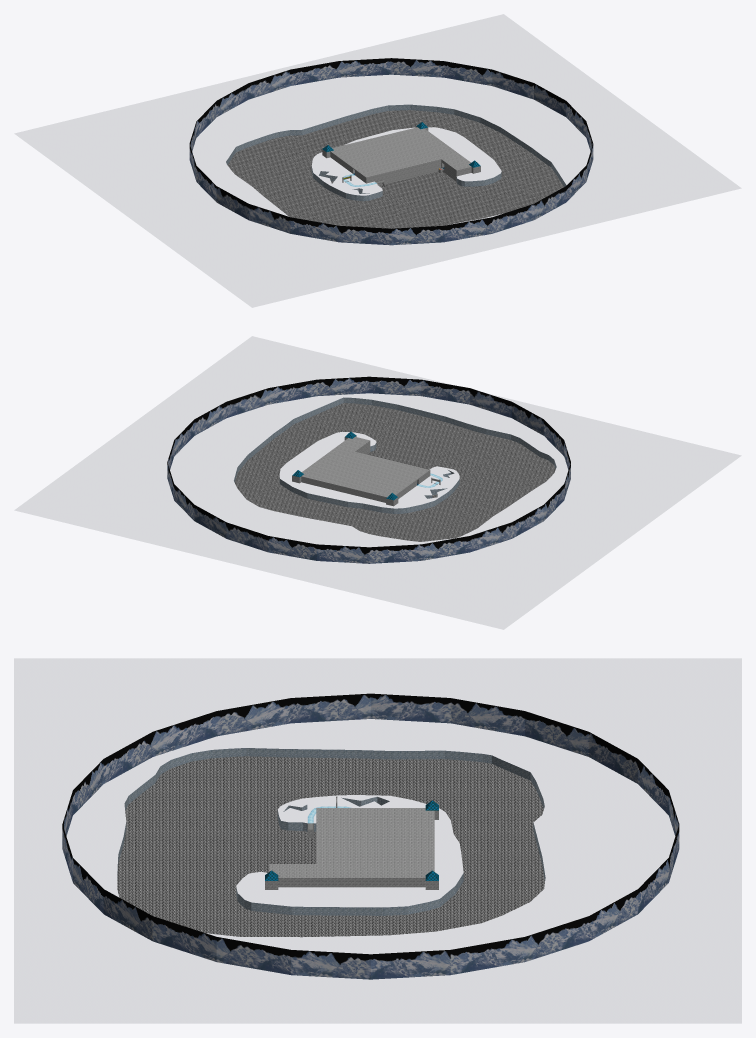
The picture shows the model from 3 angles, top to bottom: view 1: azimuth 30°, elevation 25°; view 2: azimuth 150°, elevation 25°; view 3: azimuth 270°, elevation 25°; orthographic projection. The views are drawn at different scales.
Visible parts, largest first — view 1: Oymyakon_Acropolis_SKP__Snow.001, Oymyakon_Acropolis_SKP__ef_yoganAmi1.001, Oymyakon_Acropolis_SKP__Mountains.001, Oymyakon_Acropolis_SKP__Brick.001, Oymyakon_Acropolis_SKP__Rock.001; view 2: Oymyakon_Acropolis_SKP__Snow.001, Oymyakon_Acropolis_SKP__ef_yoganAmi1.001, Oymyakon_Acropolis_SKP__Mountains.001, Oymyakon_Acropolis_SKP__Brick.001, Oymyakon_Acropolis_SKP__Rock.001; view 3: Oymyakon_Acropolis_SKP__Snow.001, Oymyakon_Acropolis_SKP__ef_yoganAmi1.001, Oymyakon_Acropolis_SKP__Mountains.001, Oymyakon_Acropolis_SKP__Brick.001, Oymyakon_Acropolis_SKP__Rock.001.
Boxes of the visible parts, x1,y1,x2,y2 form: Oymyakon_Acropolis_SKP__Snow.001: (14, 14, 741, 307); Oymyakon_Acropolis_SKP__ef_yoganAmi1.001: (227, 110, 563, 228); Oymyakon_Acropolis_SKP__Mountains.001: (189, 58, 593, 245); Oymyakon_Acropolis_SKP__Brick.001: (322, 126, 480, 187); Oymyakon_Acropolis_SKP__Rock.001: (226, 104, 566, 201); Oymyakon_Acropolis_SKP__Snow.001: (14, 336, 741, 629); Oymyakon_Acropolis_SKP__ef_yoganAmi1.001: (235, 403, 555, 541); Oymyakon_Acropolis_SKP__Mountains.001: (167, 376, 570, 563); Oymyakon_Acropolis_SKP__Brick.001: (292, 436, 440, 506); Oymyakon_Acropolis_SKP__Rock.001: (234, 397, 556, 513); Oymyakon_Acropolis_SKP__Snow.001: (14, 658, 741, 1023); Oymyakon_Acropolis_SKP__ef_yoganAmi1.001: (117, 756, 544, 937); Oymyakon_Acropolis_SKP__Mountains.001: (62, 693, 679, 979); Oymyakon_Acropolis_SKP__Brick.001: (265, 796, 438, 889); Oymyakon_Acropolis_SKP__Rock.001: (117, 748, 545, 915).
Bounding box in the file's own units: 446845 × 19270 × 376379.
14 materials, 14 textured.
